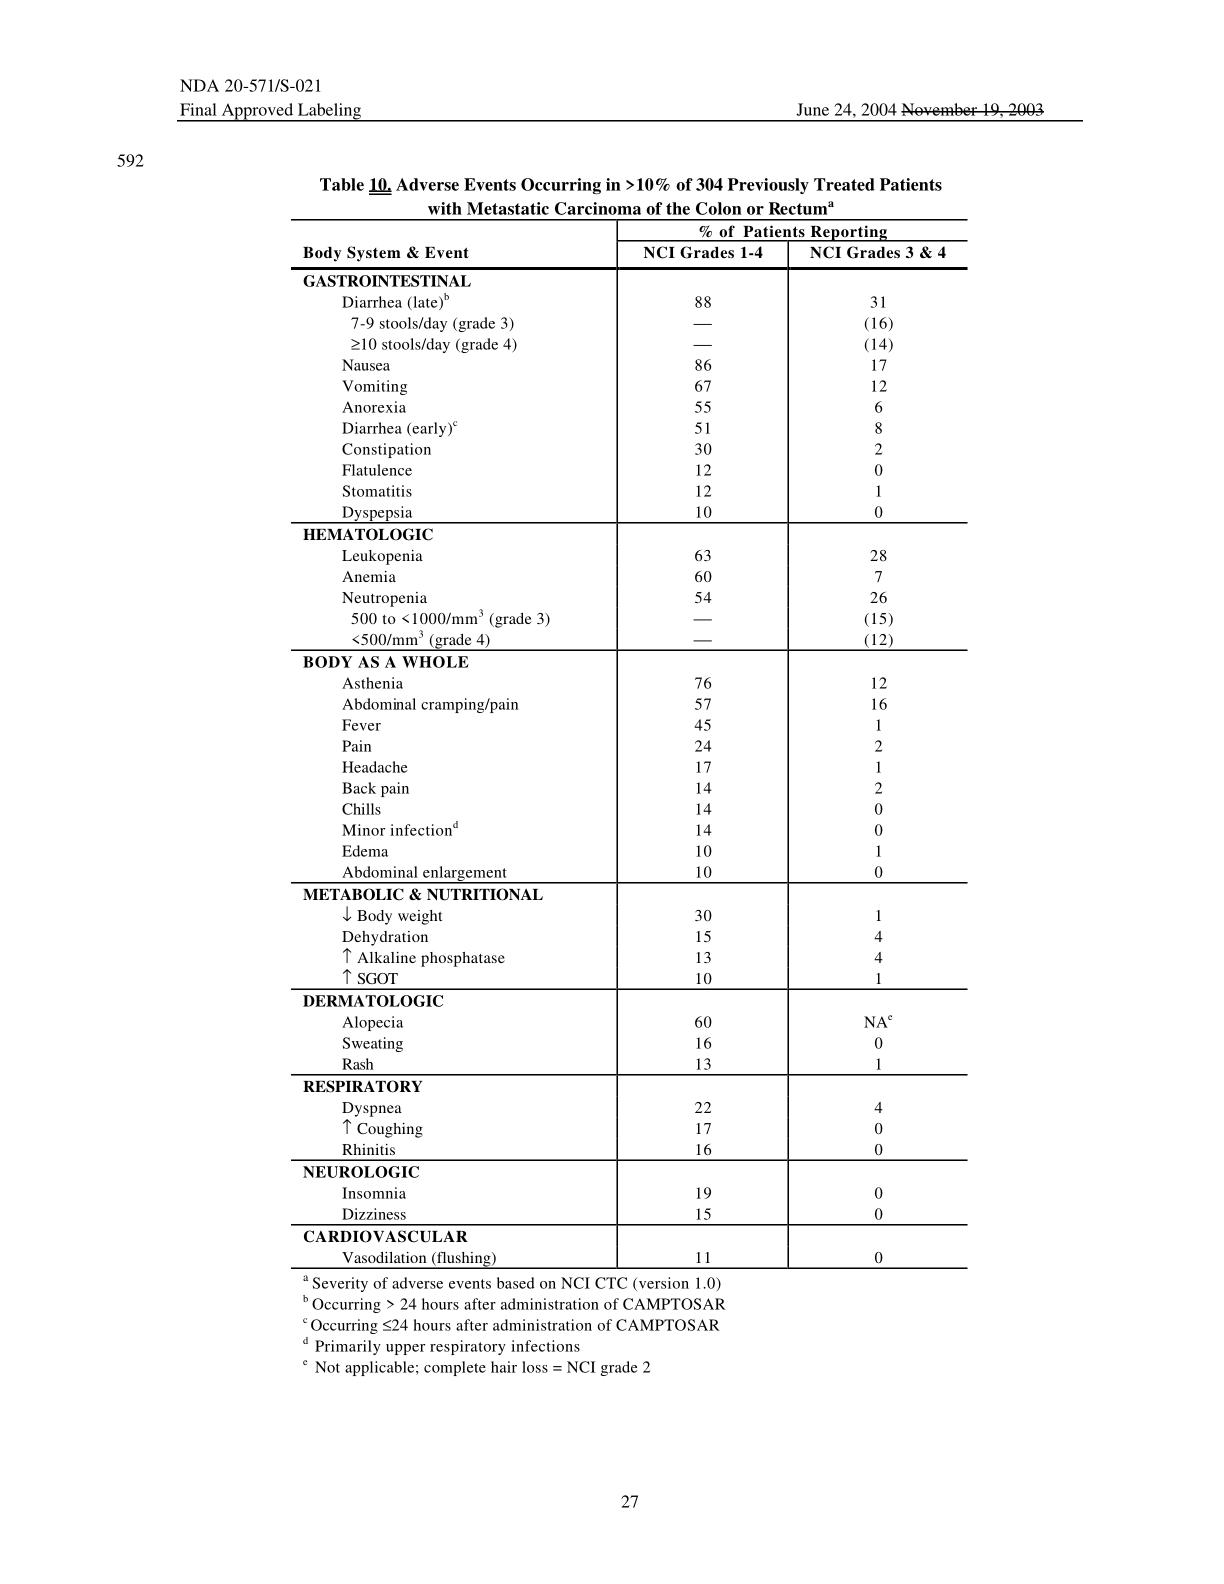partial_lined_merged_cells: (291, 217, 971, 1275)
